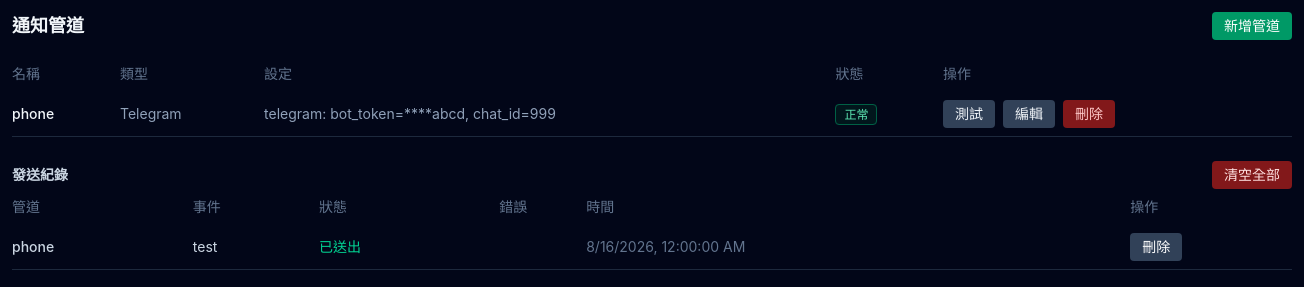
Scenario: NotificationsPage › sends a test notification
The width and height of the screenshot is (1304, 287).
Expected: the text "telegram: bot_token=****abcd, chat_id=999" is shown, 264,92 -> 835,136
Click the button "測試": coordinates (969, 114) 943,100 -> 995,128
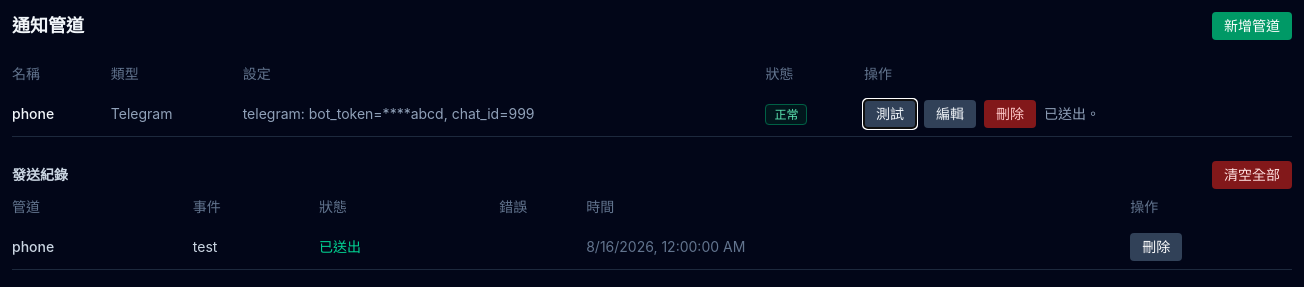
Expected: the text "已送出。" is shown, 1044,104 -> 1100,124
